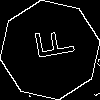F: (25, 25, 76, 63)
